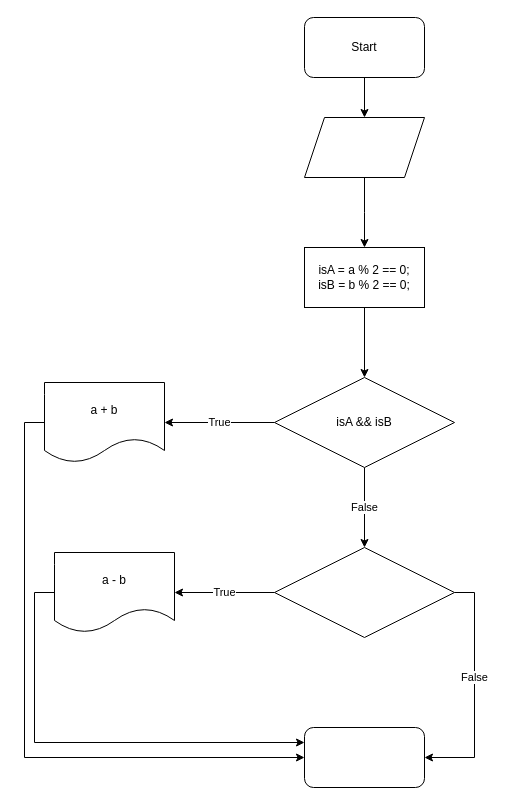
Some shapes in this 505 by 805 pixel diagram are drawn without their labels. The centre of each missing label's shape, as x and y in pixels:
"!isA || !isB" goes at [364,592].
"End" goes at [364,757].
"int a; int b;" goes at [364,147].
